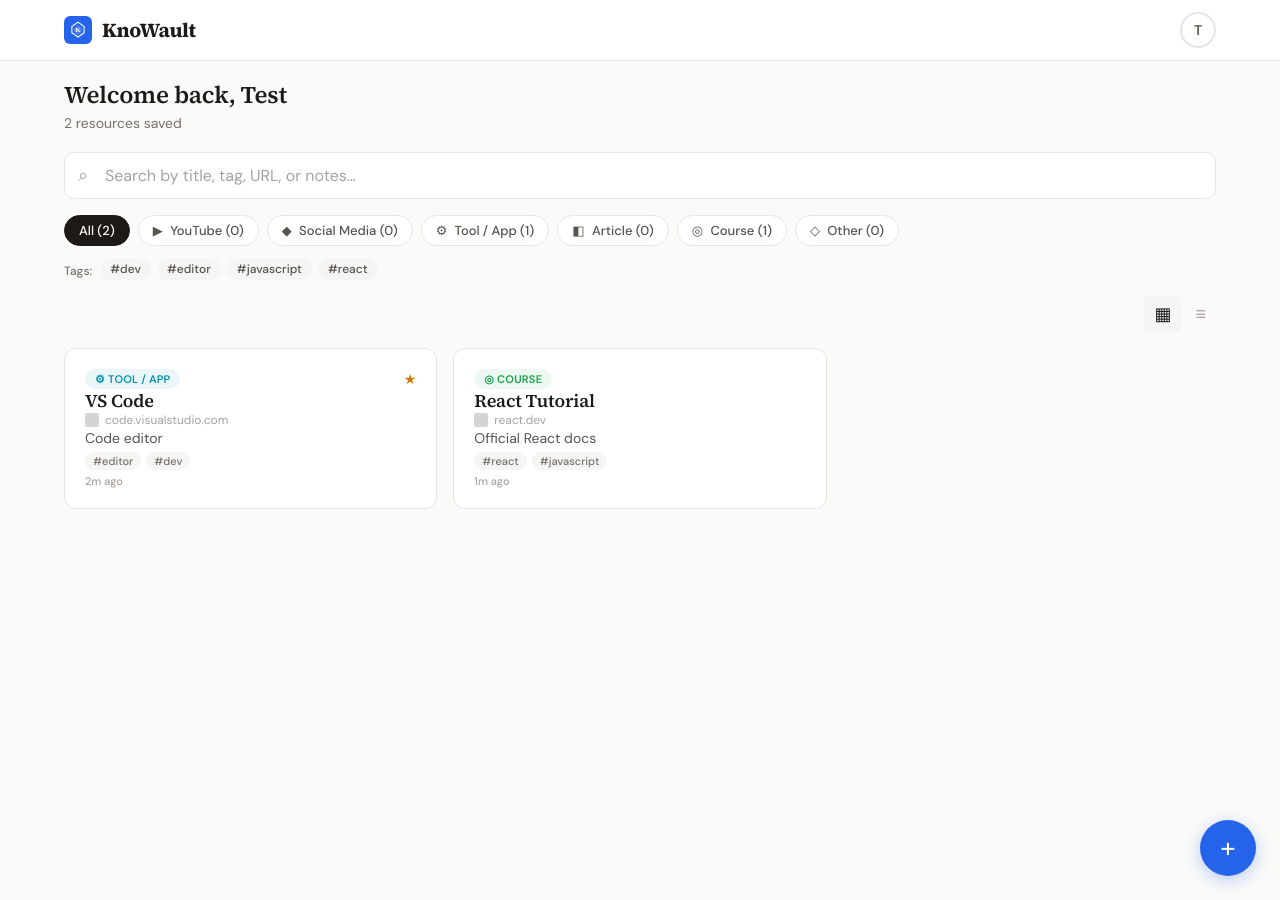
Test: KnowledgeVault › opens add form when FAB button is clicked
The width and height of the screenshot is (1280, 900).
# The FAB uses aria-label
Step 1. Click the button named "Add Resource" → x=1228, y=848, box [1200,820,1256,876]
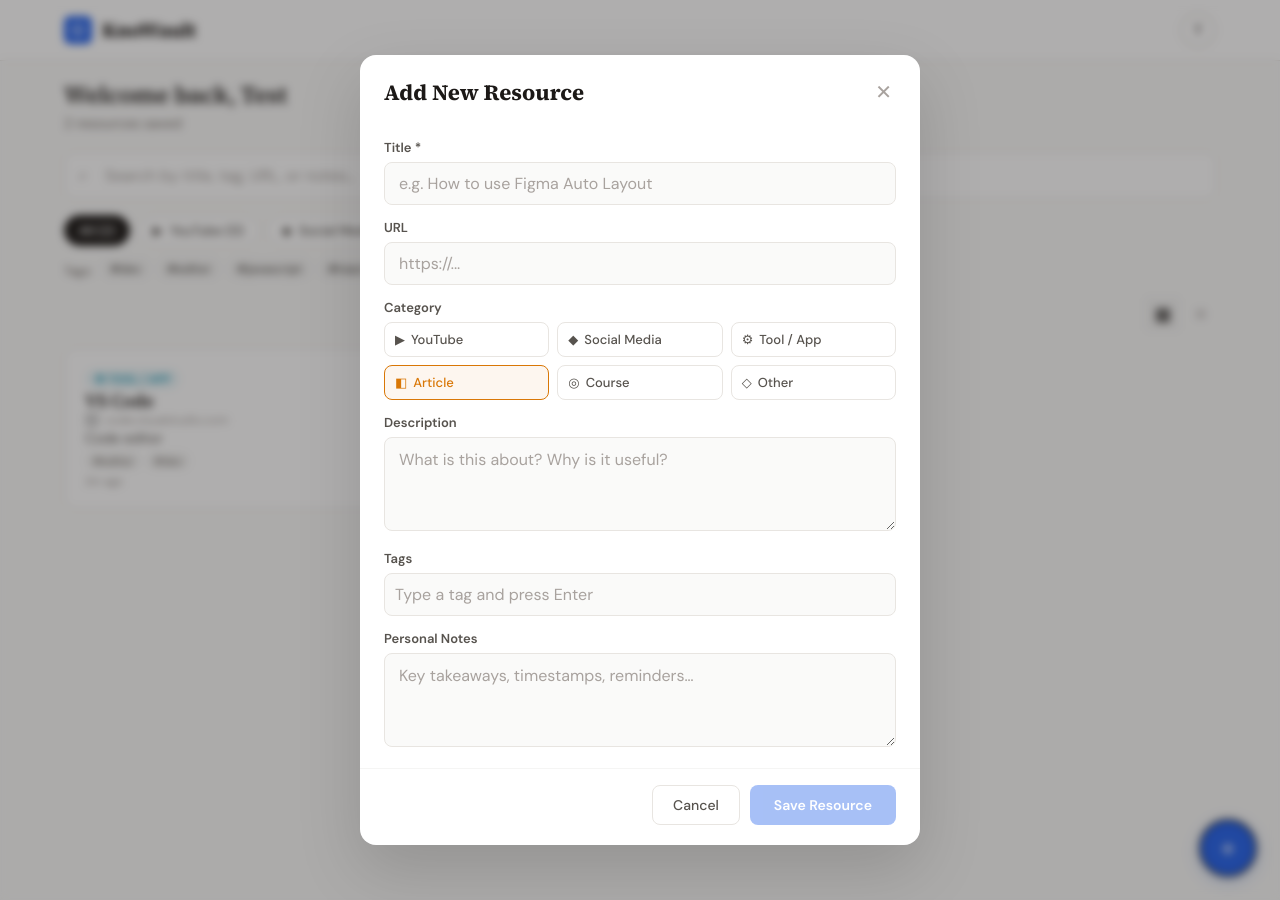
expect the heading "Add New Resource" is shown: met, box [384,77,584,107]
